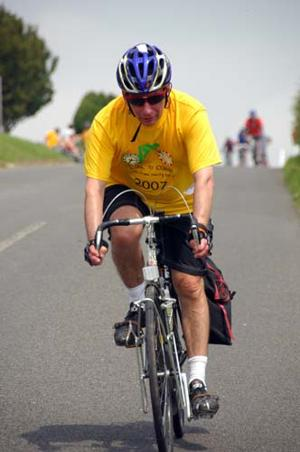person: (84, 43, 220, 423)
